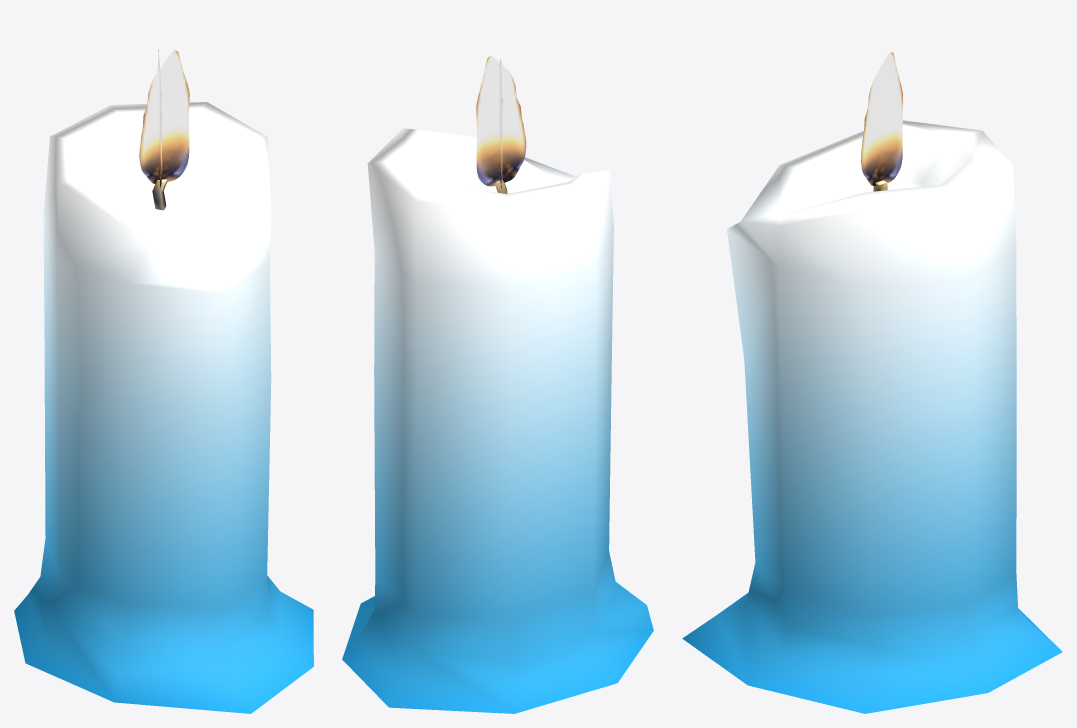
The model's file is CandleShapeB.013.glb.
The picture shows the model from 3 angles, left to right: view 1: azimuth 30°, elevation 25°; view 2: azimuth 150°, elevation 25°; view 3: azimuth 270°, elevation 25°; orthographic projection.
Parts seen in each view (by area): view 1: CandleShapeB.013; view 2: CandleShapeB.013; view 3: CandleShapeB.013.
Boxes of the visible parts, box(x1,y1,x2,y2) form: CandleShapeB.013: box(14, 49, 313, 713); CandleShapeB.013: box(342, 56, 653, 713); CandleShapeB.013: box(682, 52, 1062, 713).
Bounding box in the file's own units: 0.0966 × 0.2031 × 0.117.
2 materials, 2 textured.
